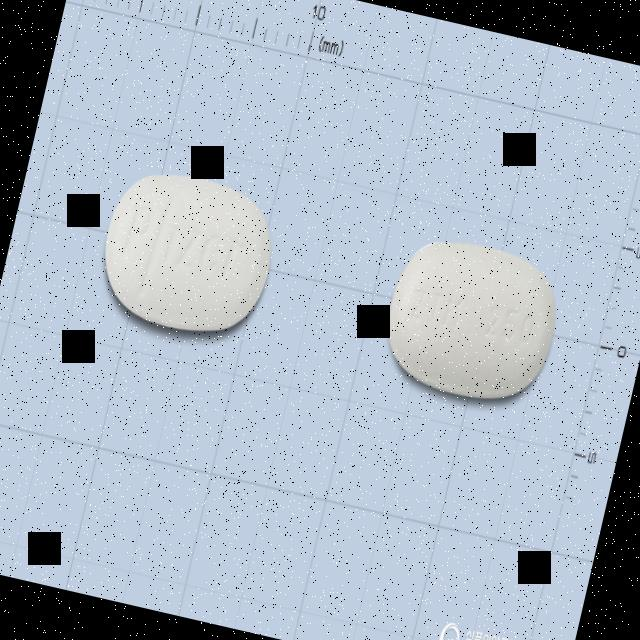Zithromax Tab: (90, 158, 286, 346), (376, 230, 568, 408)
